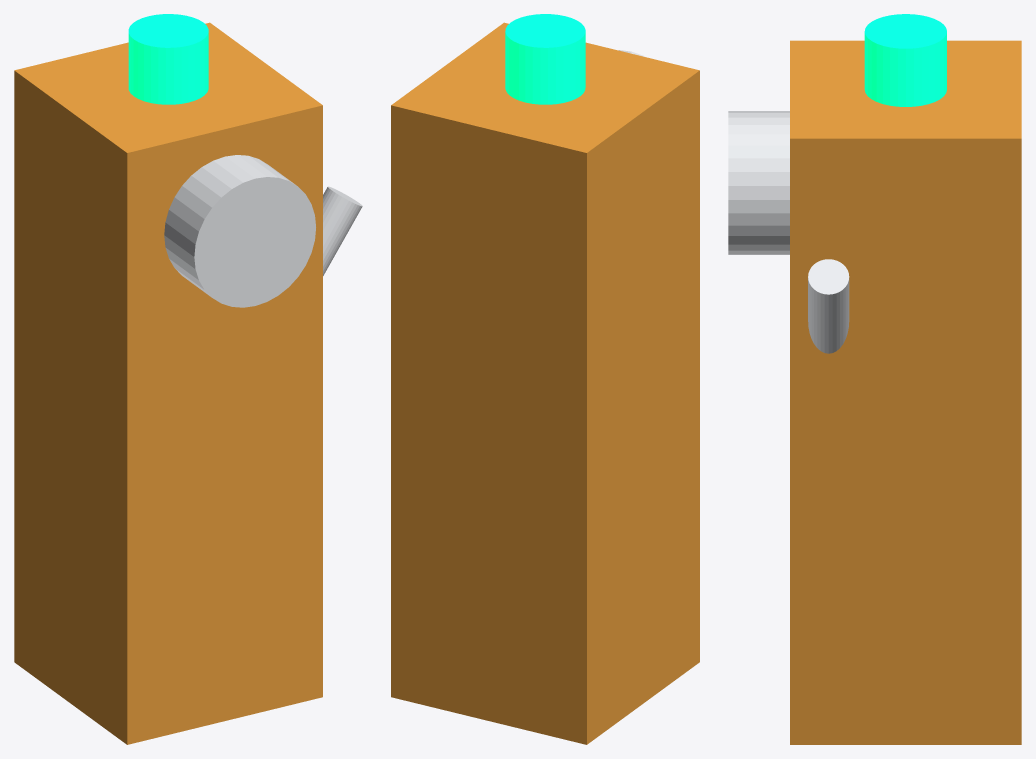
Rendered from barrier_gate.glb.
3 views of the same model, side by side, from view 1: azimuth 30°, elevation 25°; view 2: azimuth 150°, elevation 25°; view 3: azimuth 270°, elevation 25° (orthographic). The views are drawn at different scales.
Parts seen in each view (by area): view 1: Barrier_Pedestal, Pivot_Axle, Status_Beacon, Piston_Cylinder; view 2: Barrier_Pedestal, Status_Beacon; view 3: Barrier_Pedestal, Pivot_Axle, Status_Beacon, Piston_Cylinder.
Part boxes in pixels (x1,y1,x2,y2): Barrier_Pedestal: (14, 22, 322, 744); Pivot_Axle: (164, 155, 315, 307); Status_Beacon: (128, 14, 208, 104); Piston_Cylinder: (323, 186, 362, 275); Barrier_Pedestal: (391, 22, 699, 744); Status_Beacon: (505, 14, 585, 104); Barrier_Pedestal: (790, 40, 1021, 744); Pivot_Axle: (728, 111, 789, 254); Status_Beacon: (864, 14, 946, 106); Piston_Cylinder: (808, 259, 849, 353).
Size of the model in its own units: 0.5774 by 1.43 by 0.57.
